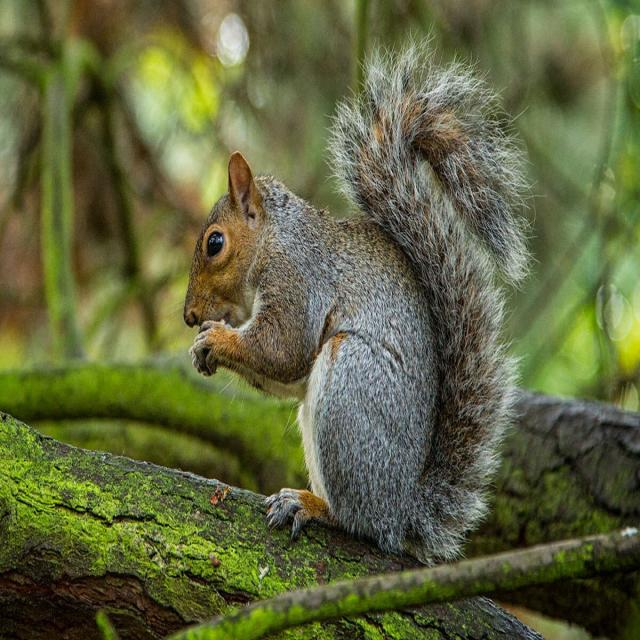Squirrel: (180, 52, 519, 550)
